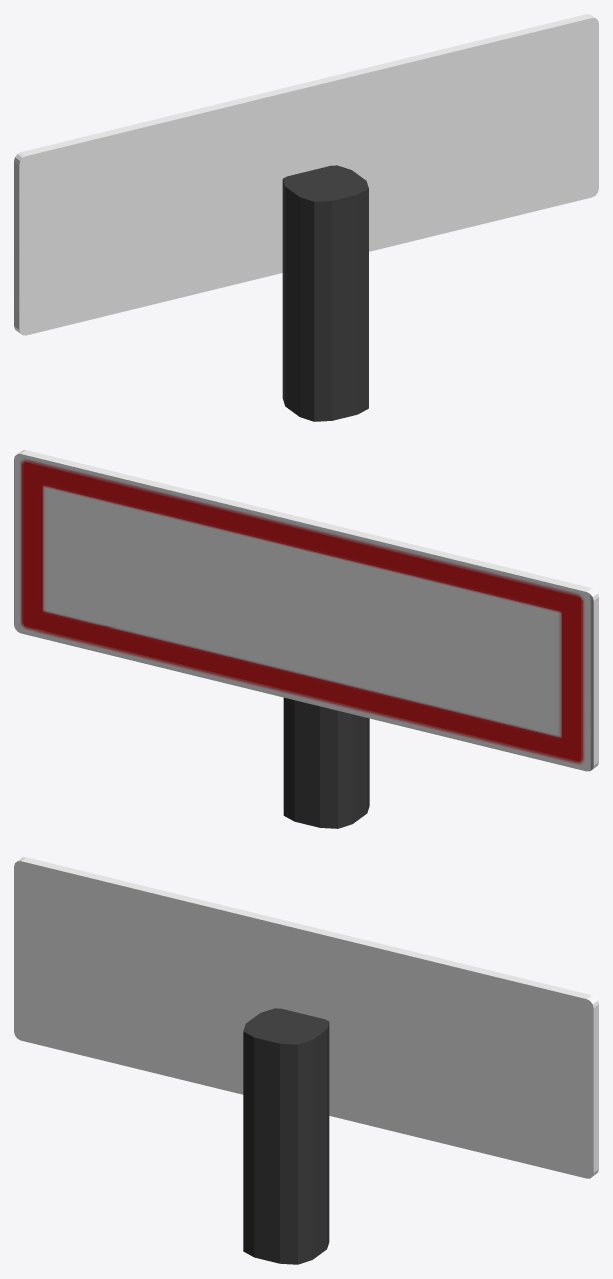
File: panneauagglomeration.obj
3 views of the same model, one above another, from view 1: azimuth 30°, elevation 25°; view 2: azimuth 150°, elevation 25°; view 3: azimuth 330°, elevation 25° (orthographic).
Parts seen in each view (by area): view 1: Plane, Cube_Cube.006; view 2: Plane, Cube_Cube.006; view 3: Plane, Cube_Cube.006.
Part boxes in pixels (box(x1,y1,x2,y2)): Plane: box(14, 14, 598, 335); Cube_Cube.006: box(282, 165, 368, 421); Plane: box(14, 450, 598, 771); Cube_Cube.006: box(283, 697, 369, 828); Plane: box(14, 857, 598, 1178); Cube_Cube.006: box(243, 1008, 329, 1264).
Size of the model in its own units: 0.9187 by 0.4604 by 0.1144.
Materials: 1 (1 with a texture image).
